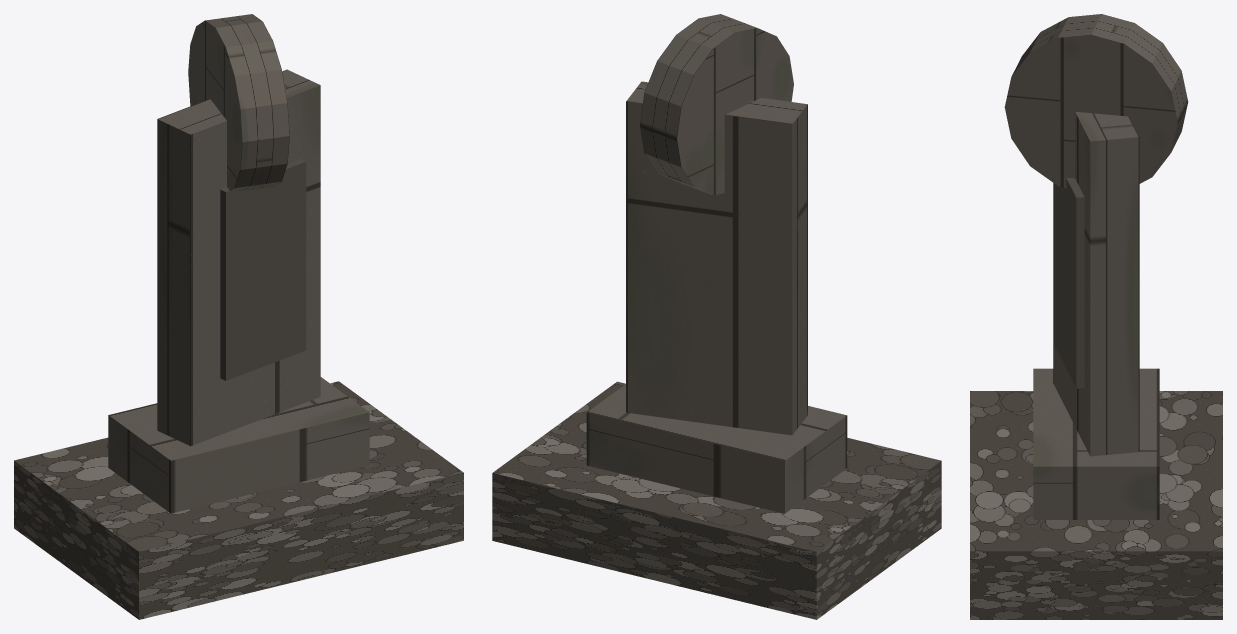
The model's file is nghia-dia-bia-nghieng-do.glb.
3 views of the same model, side by side, from view 1: azimuth 30°, elevation 25°; view 2: azimuth 150°, elevation 25°; view 3: azimuth 270°, elevation 25° (orthographic).
Parts seen in each view (by area): view 1: nghia-dia-bia-nghieng-do; view 2: nghia-dia-bia-nghieng-do; view 3: nghia-dia-bia-nghieng-do.
Part boxes in pixels (x1,y1,x2,y2): nghia-dia-bia-nghieng-do: [14, 14, 463, 619]; nghia-dia-bia-nghieng-do: [492, 14, 941, 619]; nghia-dia-bia-nghieng-do: [970, 14, 1222, 619].
Bounding box in the file's own units: 0.9 × 1.35 × 0.6.
3 materials, 2 textured.
